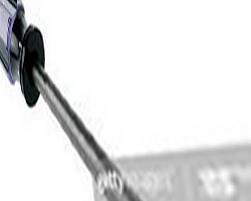Screwdriver: (1, 1, 143, 201)
